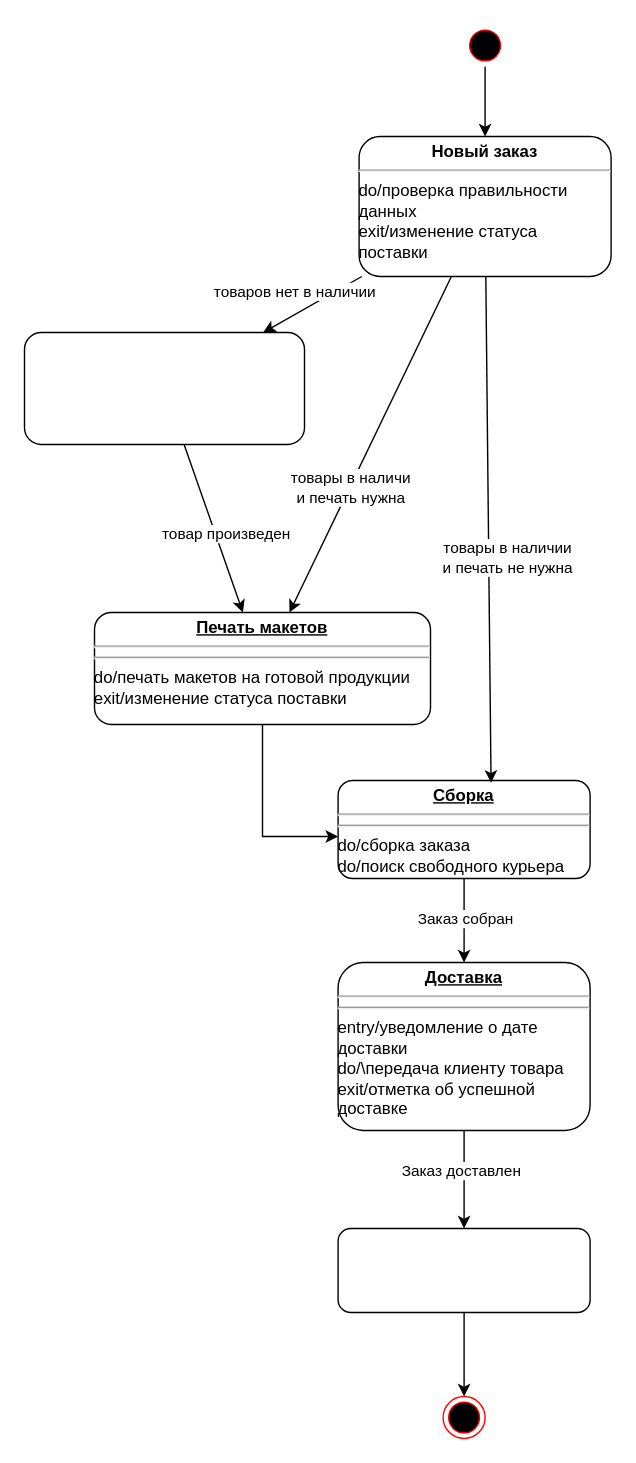
Some shapes in this 636 by 1463 pixel diagram are drawn without their labels. Each missing label, with the box of its shape:
Выполнен: (337, 1227, 590, 1312)
Производство do/производство продукции exit/изменение статуса поставки: (23, 331, 304, 444)
